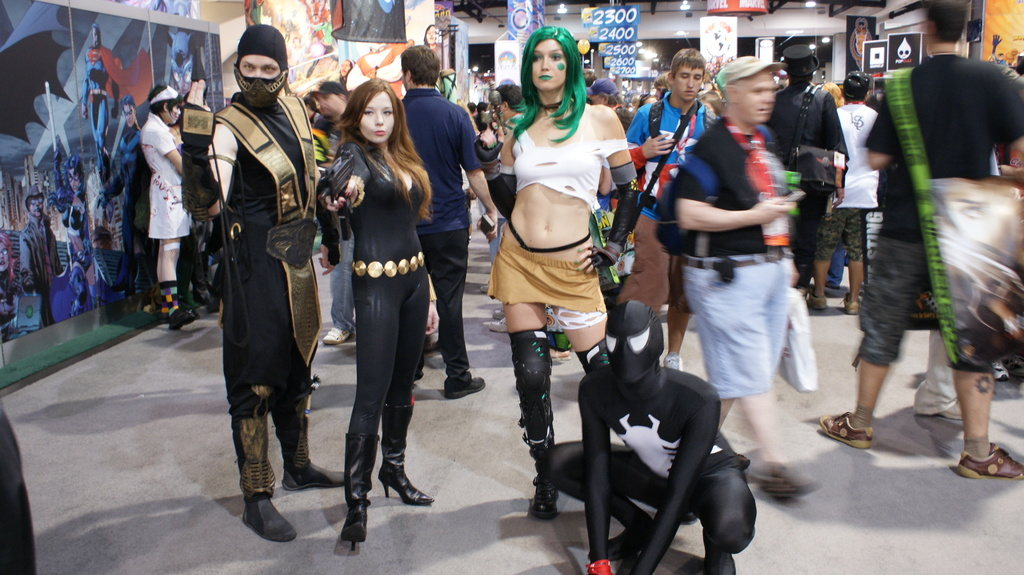Footwear: (234, 413, 298, 543), (280, 393, 348, 492), (376, 409, 441, 503), (337, 438, 374, 553), (818, 407, 876, 452), (961, 437, 1023, 473), (445, 361, 484, 399)
